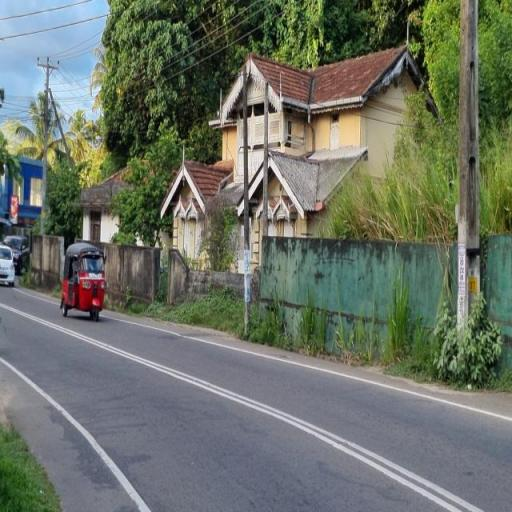double_white_line: (0, 357, 147, 510)
